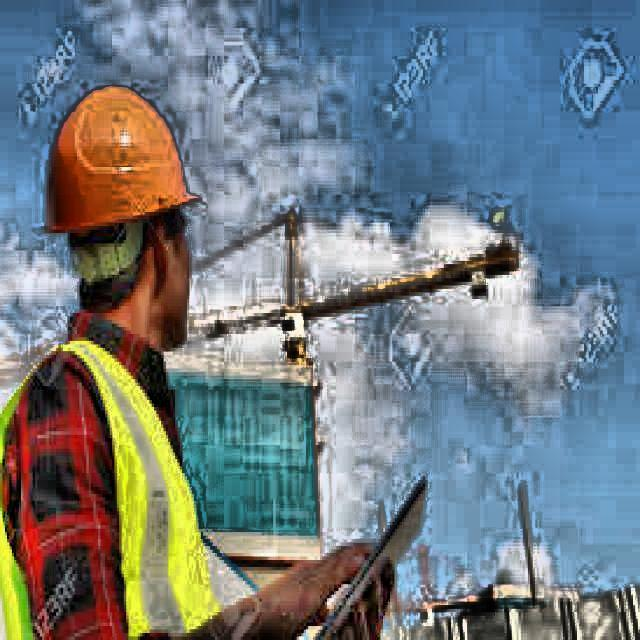bull_dozer/loader/grader: (172, 210, 522, 620)
person: (0, 66, 420, 640)
